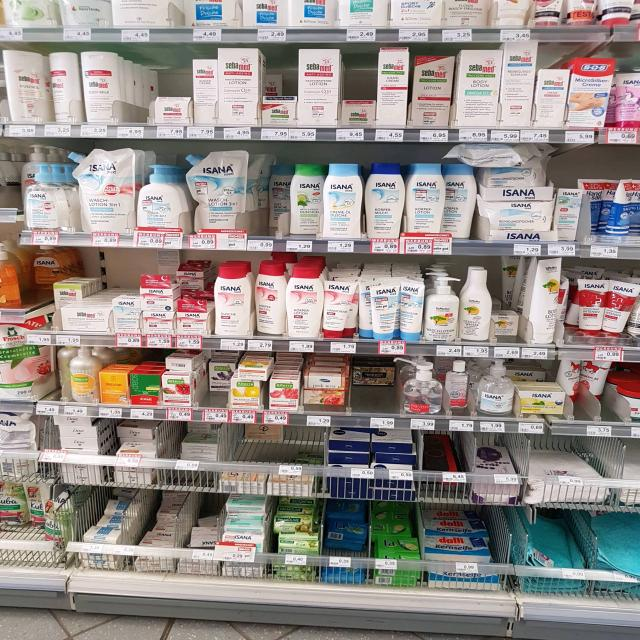empty: (236, 419, 320, 492), (114, 47, 157, 123)
